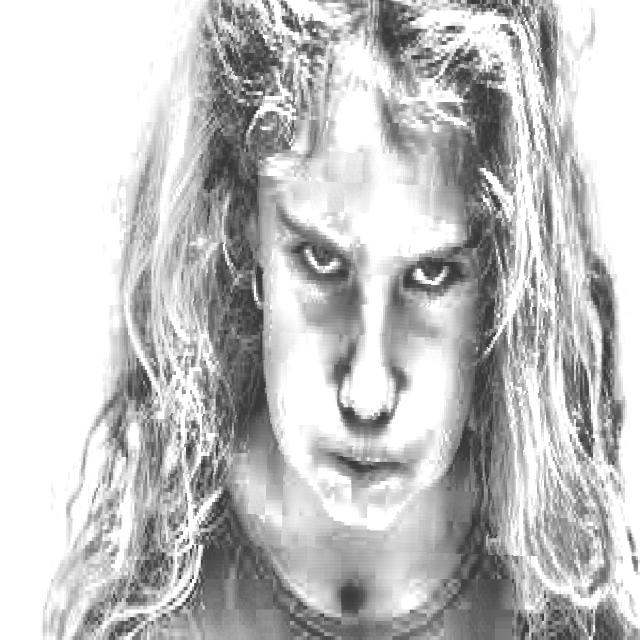angry: (165, 0, 553, 553)
